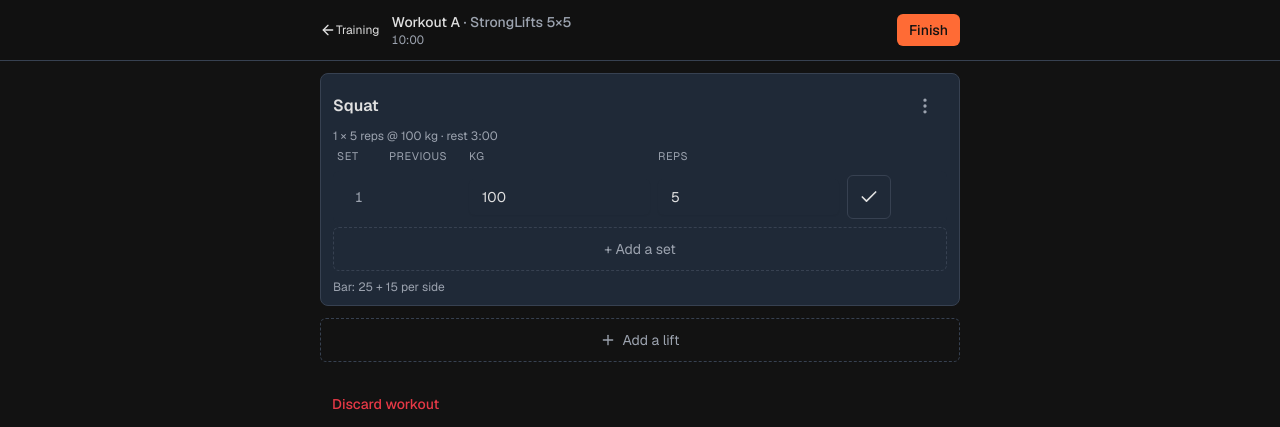
Test: the live screen when the workout went away › says it was thrown away, and does NOT say it was finished
Step 1. Click the button with test id "tick-1" → (869, 196), box [847, 174, 891, 218]
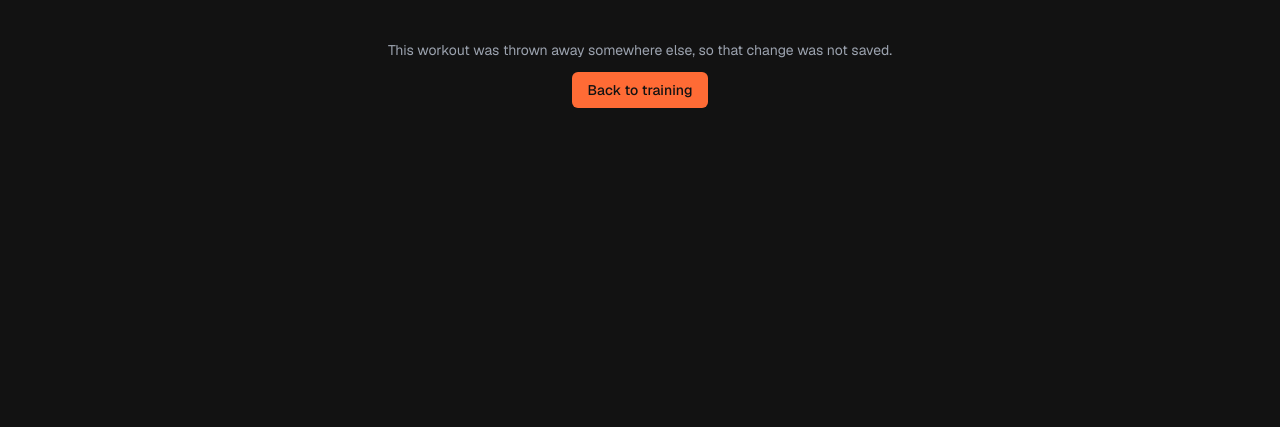
Now the text "This workout was thrown away somewhere else, so that change was not saved." is shown, box [388, 41, 892, 59]
